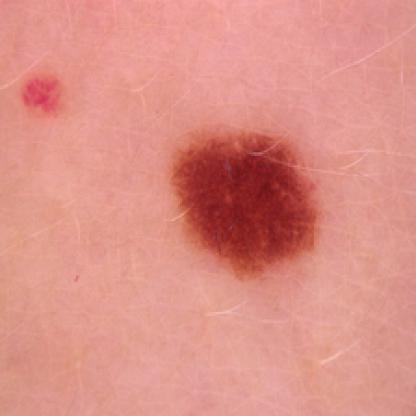benign: (17, 61, 364, 279)
